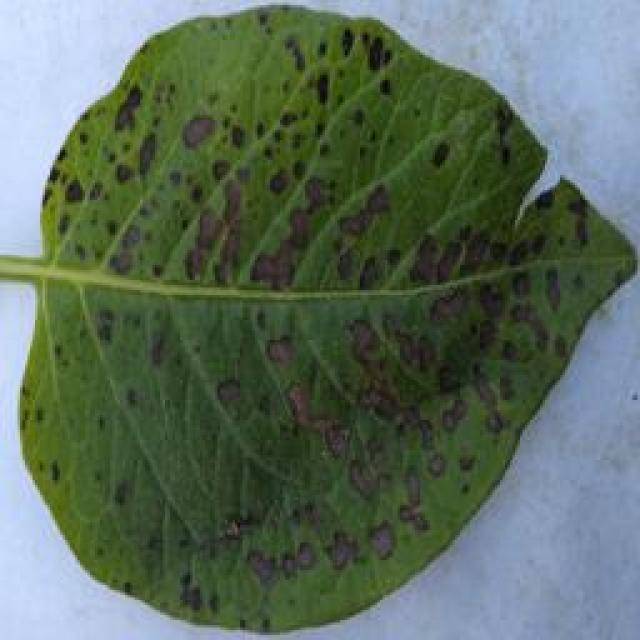Potato_Early_Blight: (22, 5, 640, 624)
